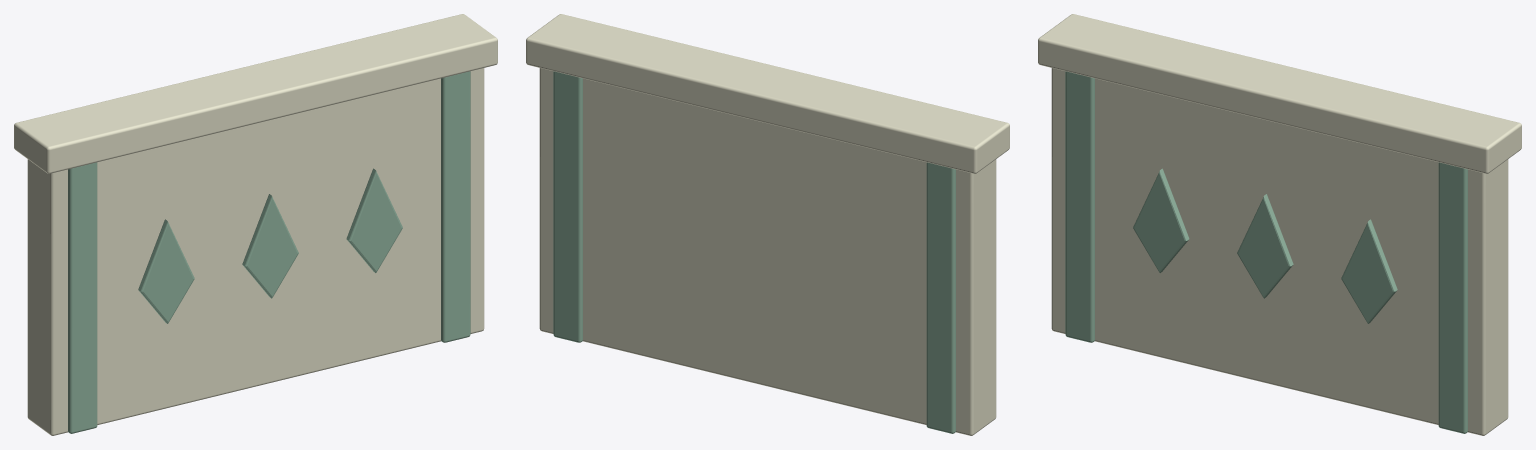
The model's file is enchanted-harp-garden-and-music-sanctuary-carved-bound-e5f5736f__30398.glb.
The picture shows the model from 3 angles, left to right: view 1: azimuth 30°, elevation 25°; view 2: azimuth 150°, elevation 25°; view 3: azimuth 330°, elevation 25°; orthographic projection.
Visible parts, largest first — view 1: carved-boundary-wall; view 2: carved-boundary-wall; view 3: carved-boundary-wall.
Part boxes in pixels (x1,y1,x2,y2): carved-boundary-wall: [14, 14, 497, 435]; carved-boundary-wall: [526, 14, 1009, 435]; carved-boundary-wall: [1038, 14, 1521, 435].
Bounding box in the file's own units: 2.08 × 1.3 × 0.2801.
